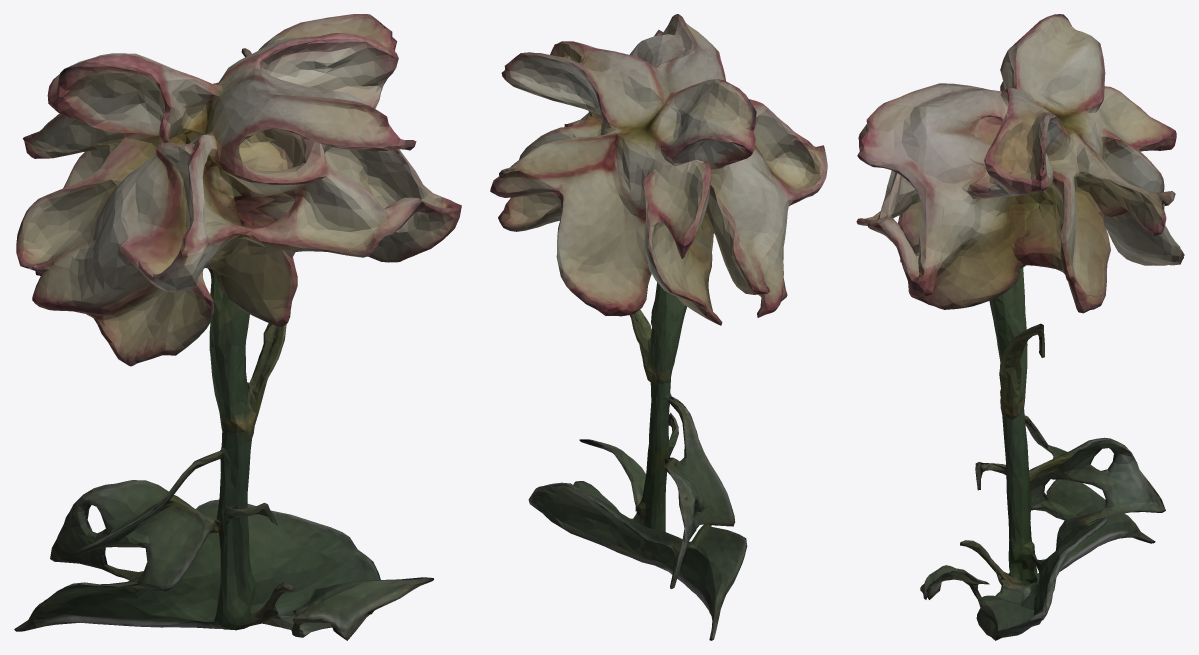
The picture shows the model from 3 angles, left to right: view 1: azimuth 30°, elevation 25°; view 2: azimuth 150°, elevation 25°; view 3: azimuth 270°, elevation 25°; orthographic projection. The views are drawn at different scales.
Visible parts, largest first — view 1: world; view 2: world; view 3: world.
Part boxes in pixels (x1,y1,x2,y2): world: (14, 14, 461, 640); world: (490, 14, 827, 640); world: (856, 14, 1184, 640).
Size of the model in its own units: 0.5625 by 0.9439 by 0.5215.
Materials: 1 (1 with a texture image).
